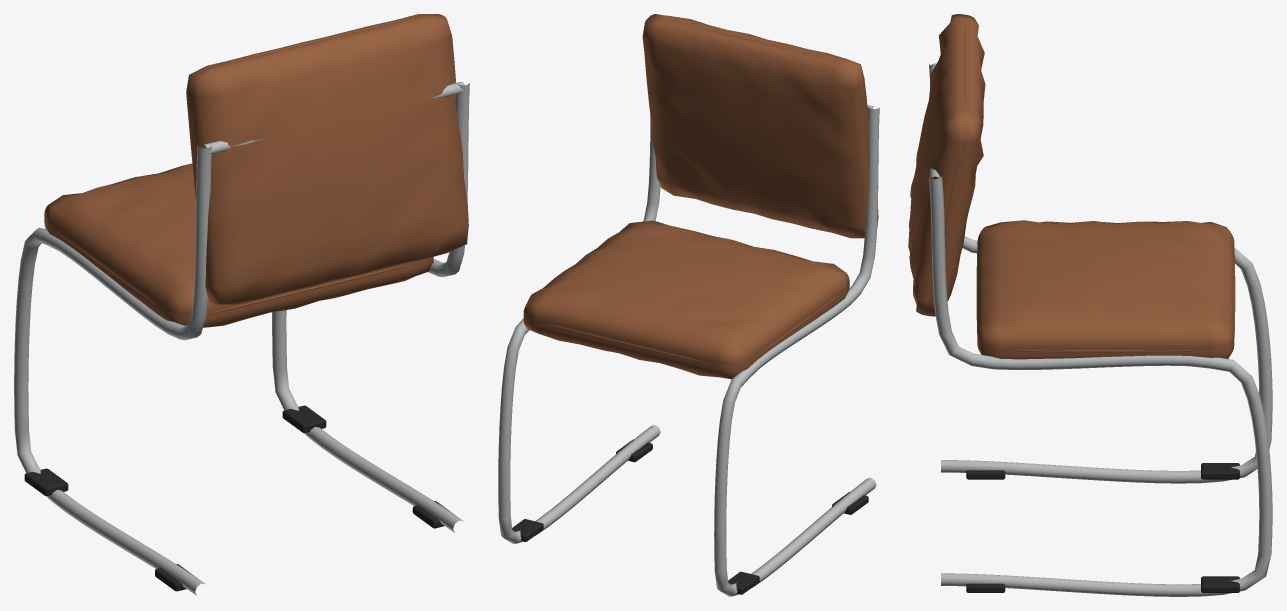
The model's file is residential-cantilever-chair.glb.
3 renders of one model, left to right at view 1: azimuth 30°, elevation 25°; view 2: azimuth 150°, elevation 25°; view 3: azimuth 270°, elevation 25°, orthographic. The views are drawn at different scales.
Parts seen in each view (by area): view 1: leather_surfaces, steel_surfaces, rubber_surfaces; view 2: leather_surfaces, steel_surfaces, rubber_surfaces; view 3: leather_surfaces, steel_surfaces, rubber_surfaces.
Boxes of the visible parts, x1,y1,x2,y2 form: leather_surfaces: (44,14,468,327); steel_surfaces: (14,81,469,595); rubber_surfaces: (24,405,453,591); leather_surfaces: (523,14,878,379); steel_surfaces: (498,105,879,596); rubber_surfaces: (512,439,868,594); leather_surfaces: (908,14,1235,359); steel_surfaces: (929,63,1272,596); rubber_surfaces: (966,463,1239,592).
Size of the model in its own units: 0.525 by 0.9384 by 0.652.
